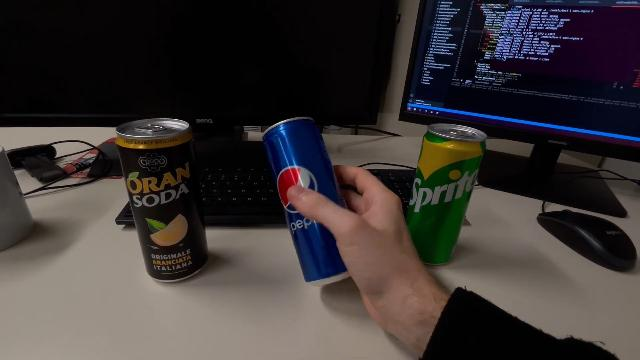OranSoda: (112, 117, 212, 285)
Pepsi: (262, 114, 354, 288)
Sprite: (404, 118, 490, 270)
